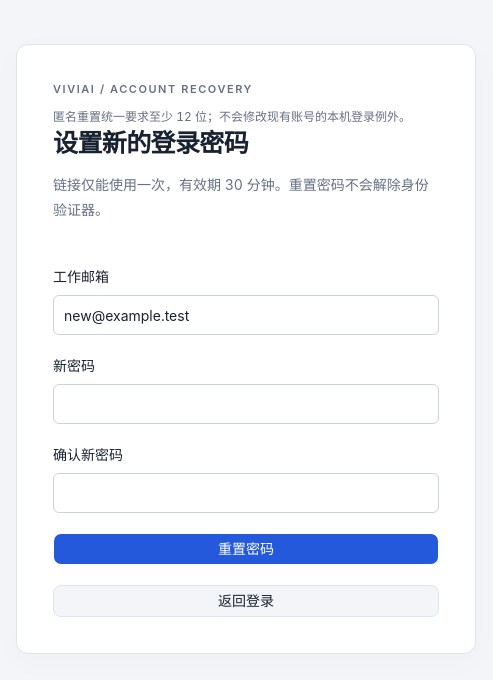
Test: requires twelve characters for anonymous reset even with the global local-test flag
In the password field labelled "新密码": (246, 404) [53,384,439,424], type "123456"
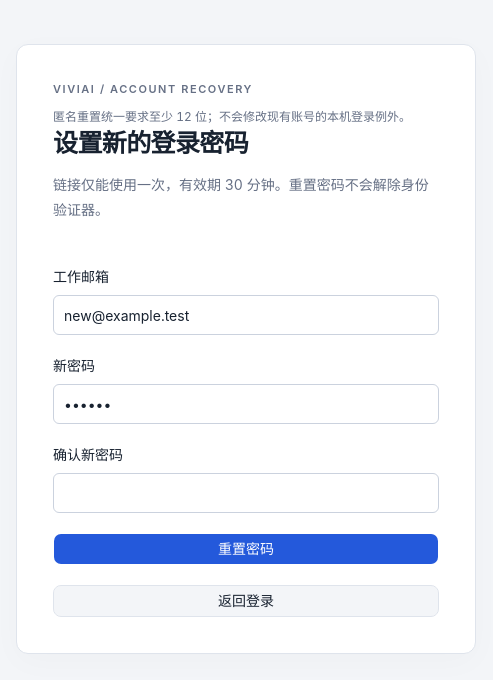
In the password field labelled "确认新密码": (246, 493) [53,473,439,513], type "123456"
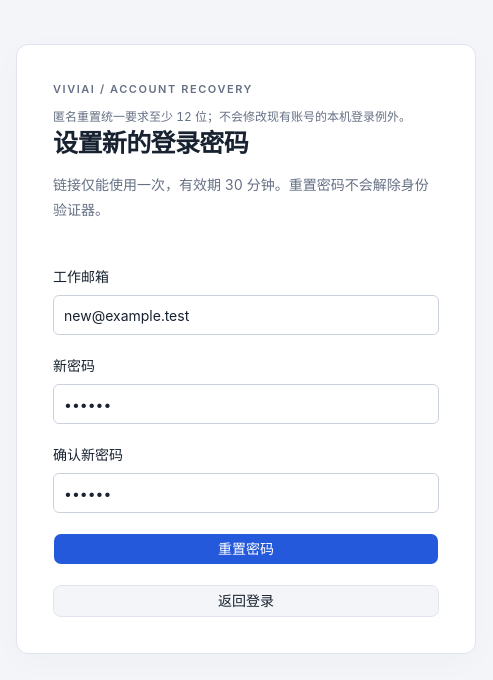
Submit the form "重置密码", box [53,161,439,617]
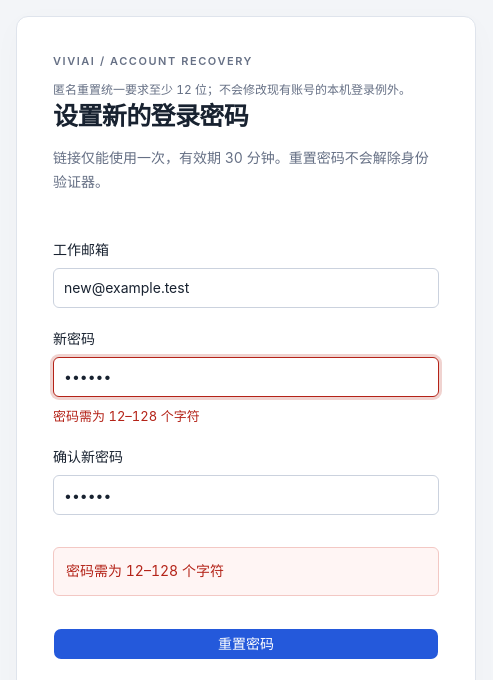
Check: the message shows "12", box [66,562,224,579]
